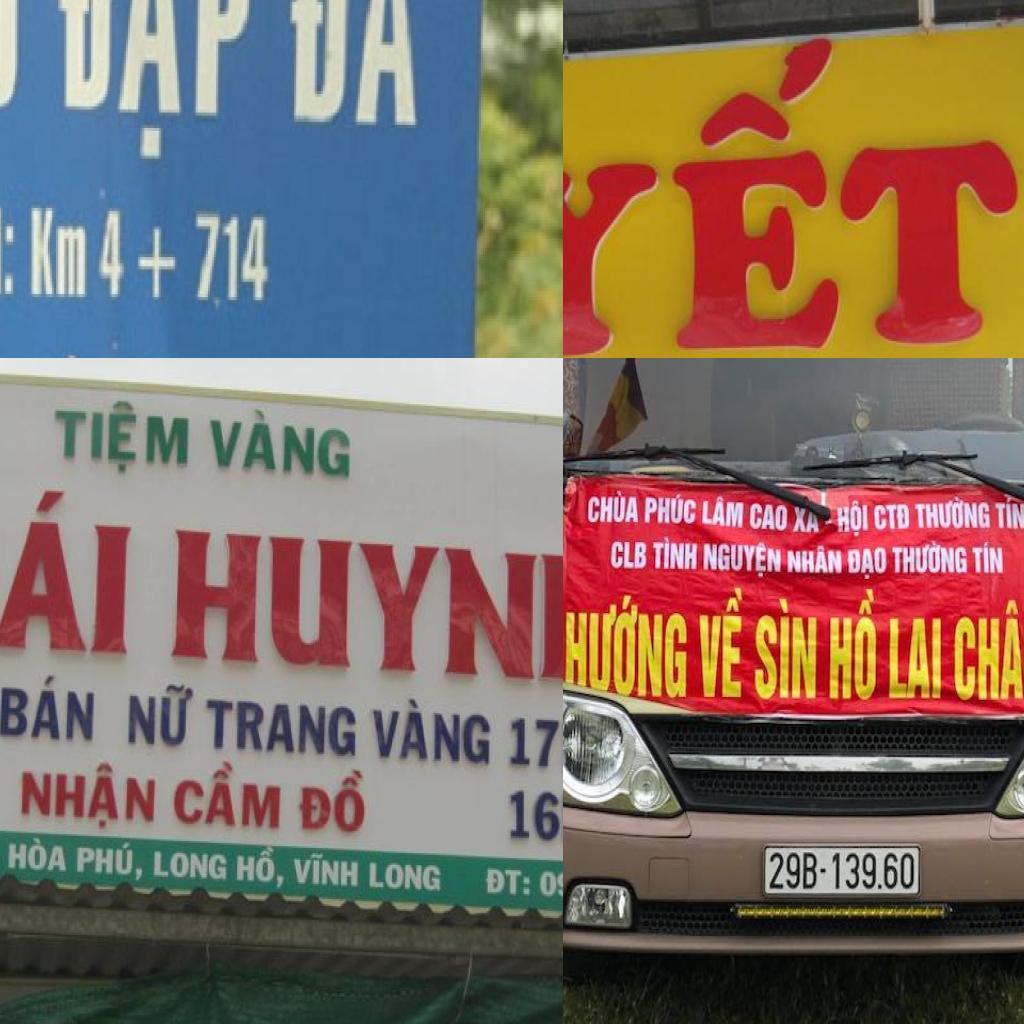text: (563, 25, 1024, 358), (170, 525, 563, 689), (58, 0, 257, 167), (0, 469, 136, 660), (285, 0, 421, 134), (564, 592, 690, 706), (52, 394, 191, 479), (206, 402, 352, 480), (20, 758, 158, 834), (205, 696, 358, 759), (370, 696, 492, 766), (172, 756, 283, 831), (192, 211, 274, 309), (754, 596, 820, 703), (0, 672, 97, 743), (767, 850, 918, 894), (29, 202, 91, 303), (695, 584, 746, 702), (827, 586, 878, 703), (889, 614, 944, 702), (127, 679, 195, 747), (298, 766, 366, 834), (134, 224, 179, 306), (93, 205, 130, 303), (702, 540, 783, 580), (508, 716, 563, 774), (76, 838, 145, 884), (508, 788, 563, 844), (912, 495, 992, 532), (890, 539, 969, 576), (292, 850, 360, 889), (368, 862, 442, 896), (7, 834, 68, 874), (153, 850, 228, 882), (236, 844, 286, 892), (786, 543, 844, 579), (587, 488, 641, 526), (643, 491, 698, 528), (651, 535, 699, 573), (700, 494, 747, 532), (845, 544, 888, 584), (484, 867, 533, 897), (836, 498, 870, 539), (608, 539, 649, 573), (748, 502, 790, 534), (873, 501, 913, 533), (971, 541, 1006, 576), (993, 495, 1024, 532), (792, 502, 822, 536)
